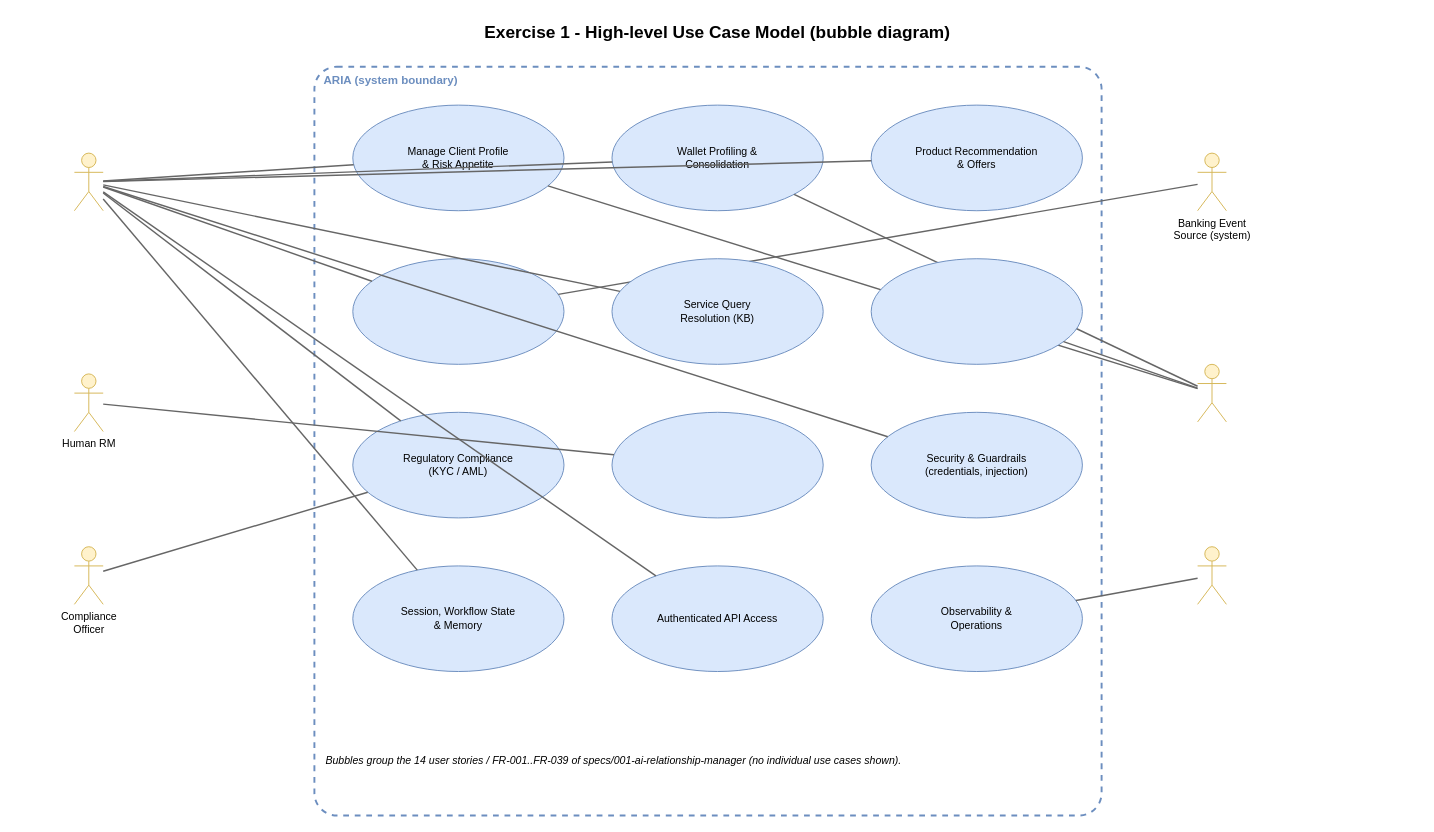
Image size: 1434x832. Some labels were removed from this diagram. The centre of each missing label's shape, as x and y in pixels:
"Client" belongs at (x=88, y=181).
"CRM / Core Banking (system)" belongs at (x=1211, y=392).
"CRM Interaction Logging" belongs at (x=976, y=311).
"Human Escalation" belongs at (x=717, y=464).
"Platform Admin / Ops" belongs at (x=1211, y=575).
"Retention & Maturity Management" belongs at (x=458, y=311).
